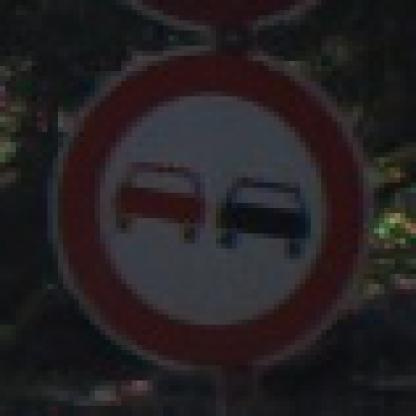No Overtaking: (38, 42, 380, 382)
